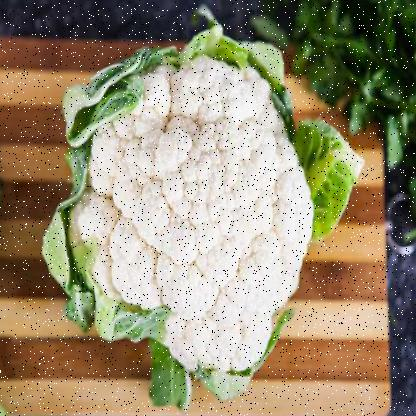cauliflower: (73, 72, 312, 376)
